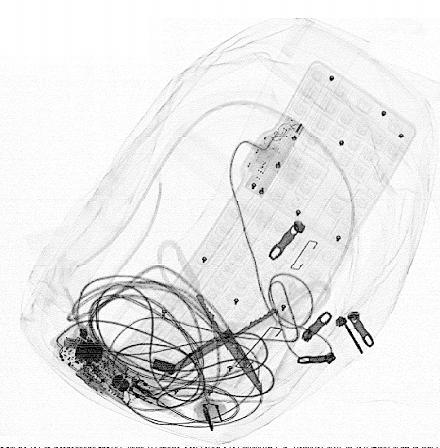Scissors: (157, 239, 332, 396)
